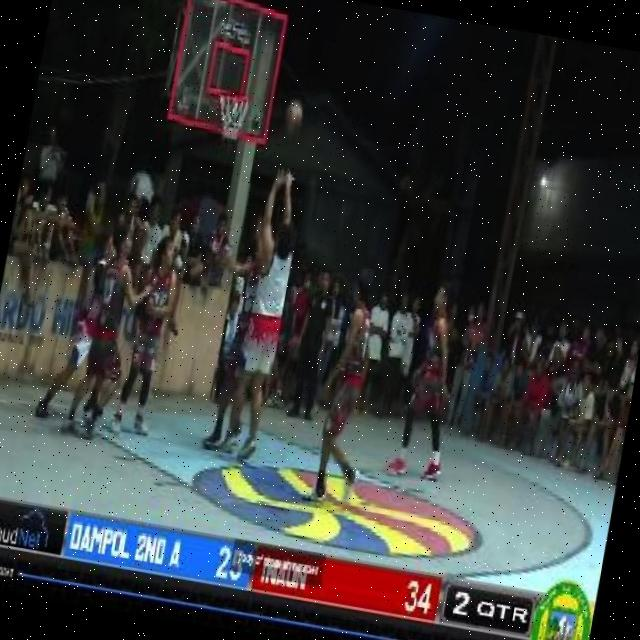ball: (280, 94, 307, 138)
